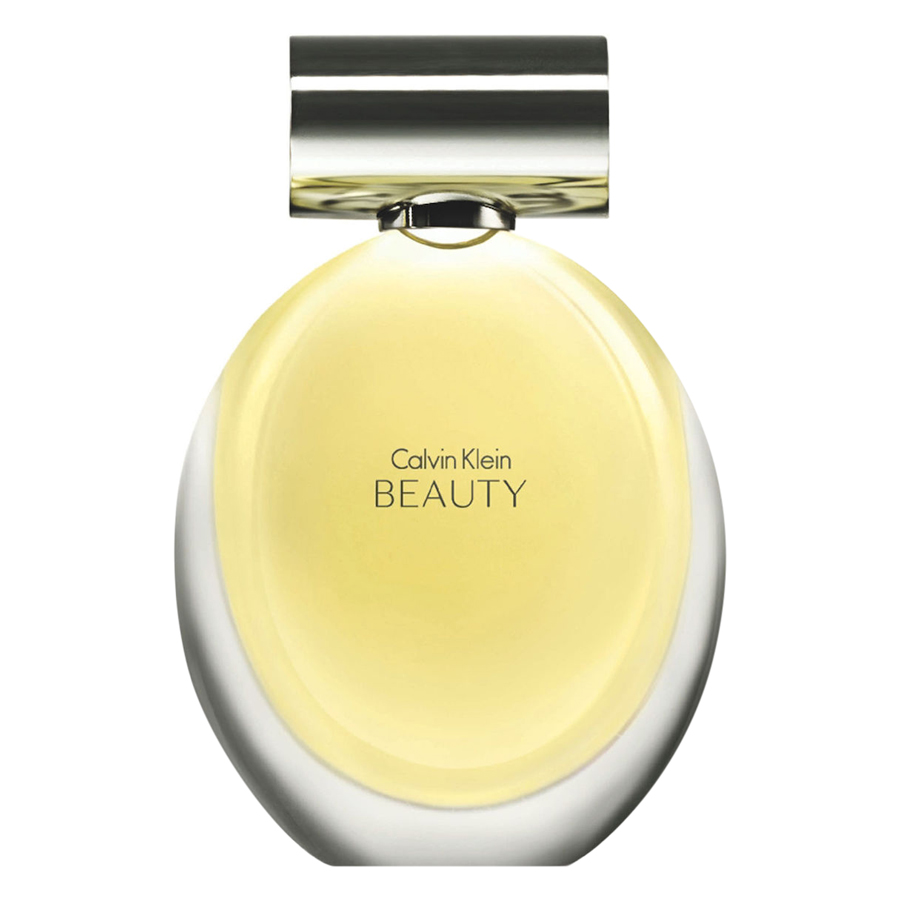Calvin Klein: (380, 442, 521, 474)
